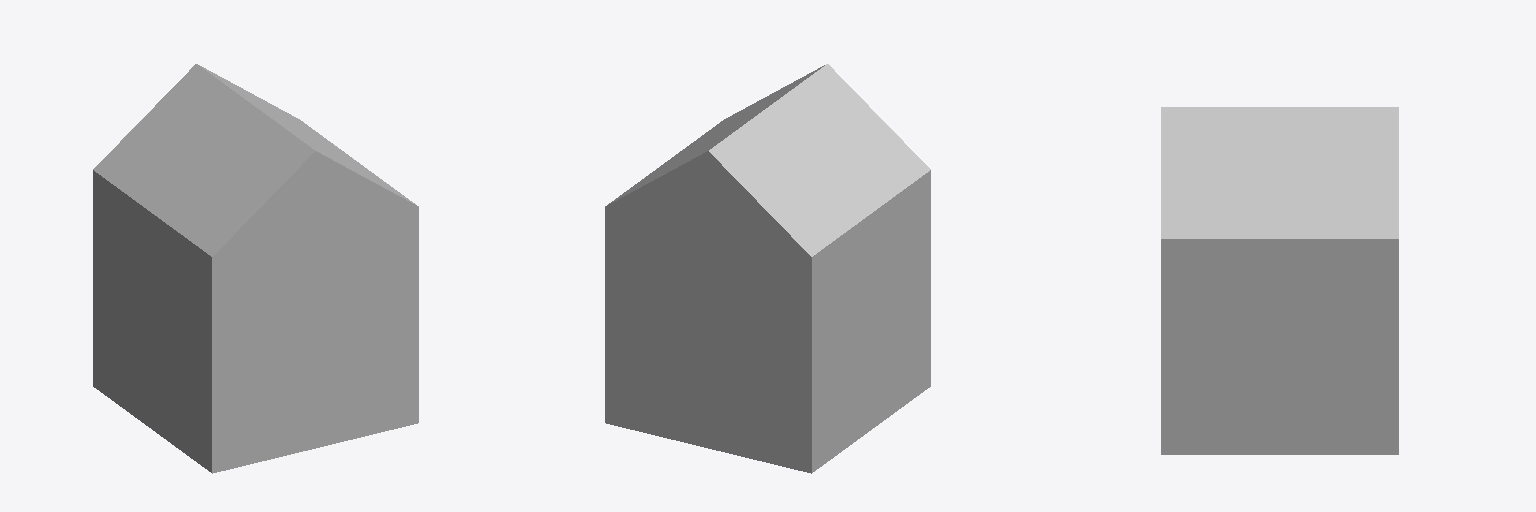
File: house.obj
3 renders of one model, left to right at view 1: azimuth 30°, elevation 25°; view 2: azimuth 150°, elevation 25°; view 3: azimuth 270°, elevation 25°, orthographic.
Parts seen in each view (by area): view 1: Cube; view 2: Cube; view 3: Cube.
Boxes of the visible parts, x1,y1,x2,y2 form: Cube: [93, 64, 418, 473]; Cube: [605, 64, 930, 473]; Cube: [1161, 107, 1398, 454].
Size of the model in its own units: 2 by 2.75 by 2.